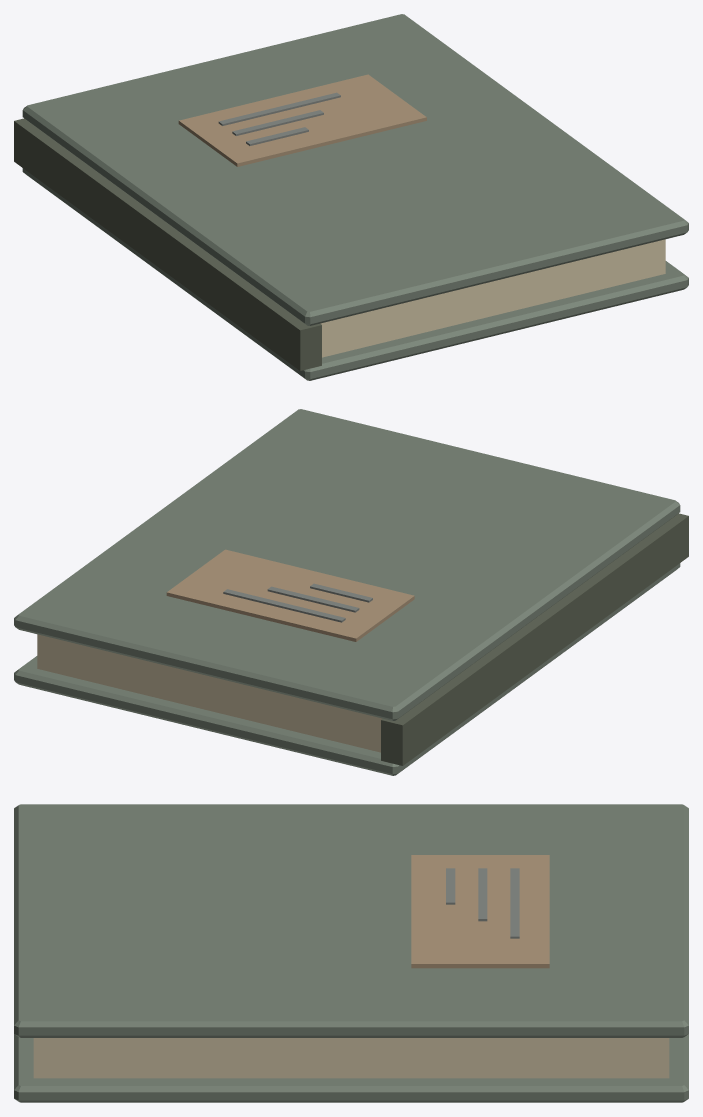
Rendered from Bell_ClosedLedger.fbx.
3 renders of one model, top to bottom at view 1: azimuth 30°, elevation 25°; view 2: azimuth 150°, elevation 25°; view 3: azimuth 270°, elevation 25°, orthographic. The views are drawn at different scales.
Parts seen in each view (by area): view 1: Bell_ClosedLedger; view 2: Bell_ClosedLedger; view 3: Bell_ClosedLedger.
Part boxes in pixels (left/top/right/bottom): Bell_ClosedLedger: left=14, top=14, right=688, bottom=380; Bell_ClosedLedger: left=14, top=409, right=688, bottom=775; Bell_ClosedLedger: left=14, top=804, right=688, bottom=1102.
Size of the model in its own units: 0.231 by 0.0421 by 0.293.
